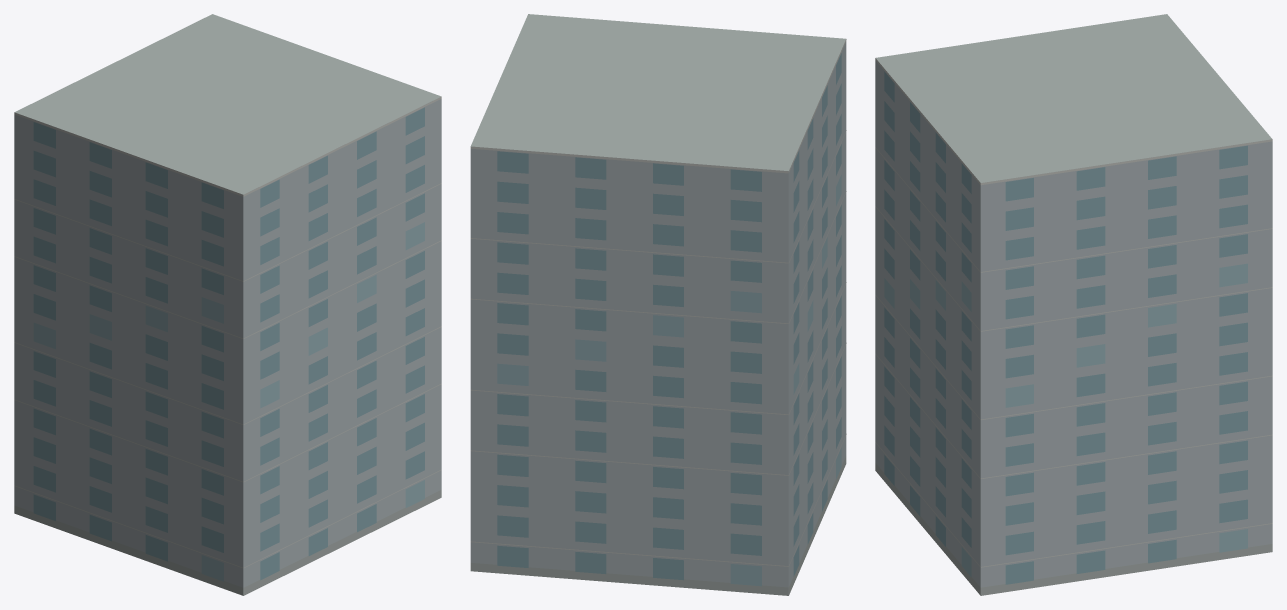
File: residential-7d1f980b-4e9e-48c1-8c56-a6368a7433c0.glb
3 views of the same model, side by side, from view 1: azimuth 30°, elevation 25°; view 2: azimuth 150°, elevation 25°; view 3: azimuth 270°, elevation 25° (orthographic). The views are drawn at different scales.
Parts seen in each view (by area): view 1: residential-7d1f980b-4e9e-48c1-8c56-a6368a7433c0.tmp; view 2: residential-7d1f980b-4e9e-48c1-8c56-a6368a7433c0.tmp; view 3: residential-7d1f980b-4e9e-48c1-8c56-a6368a7433c0.tmp.
Boxes of the visible parts, x1,y1,x2,y2 form: residential-7d1f980b-4e9e-48c1-8c56-a6368a7433c0.tmp: (14, 14, 441, 595); residential-7d1f980b-4e9e-48c1-8c56-a6368a7433c0.tmp: (470, 14, 846, 595); residential-7d1f980b-4e9e-48c1-8c56-a6368a7433c0.tmp: (875, 14, 1272, 595).
Size of the model in its own units: 39.55 by 45 by 39.26.
